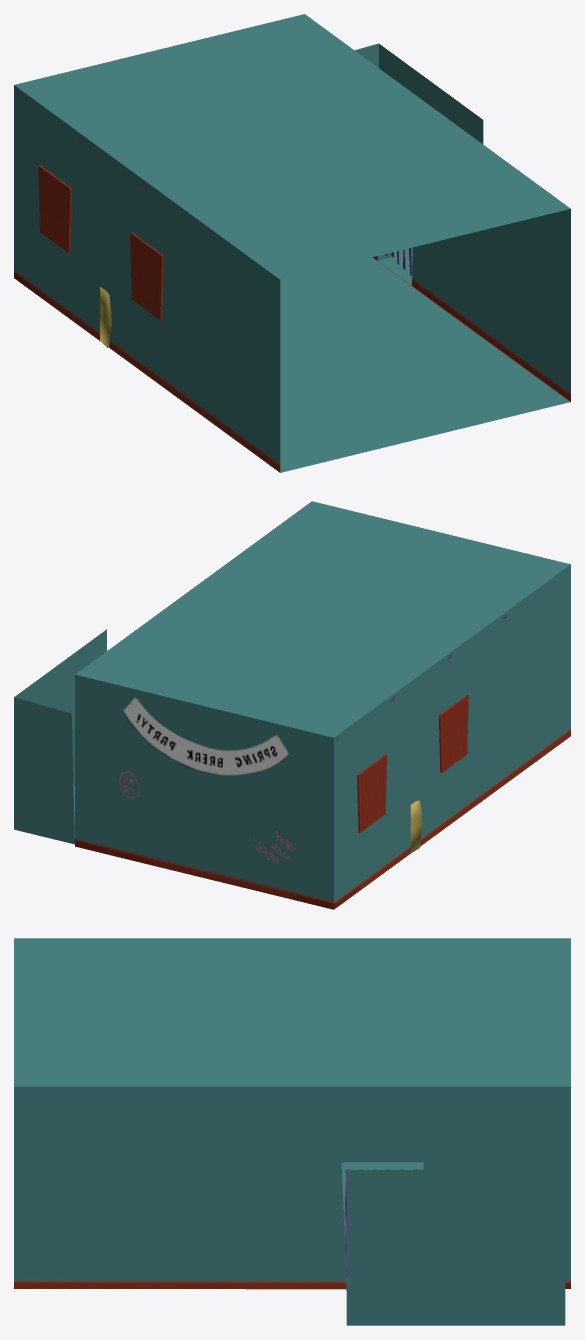
The model's file is frathousecolor.FBX.
3 renders of one model, top to bottom at view 1: azimuth 30°, elevation 25°; view 2: azimuth 150°, elevation 25°; view 3: azimuth 270°, elevation 25°, orthographic. The views are drawn at different scales.
Parts seen in each view (by area): view 1: Box007, Box008, Box010, Box004; view 2: Box007, Box008, Box010, Box004; view 3: Box007.
Part boxes in pixels (x1,y1,x2,y2): Box007: (14,14,570,472); Box008: (130,232,163,320); Box010: (38,165,71,252); Box004: (100,286,111,347); Box007: (14,501,570,909); Box008: (438,694,468,772); Box010: (357,754,386,832); Box004: (410,800,422,853); Box007: (14,938,570,1325).
Bounding box in the file's own units: 77.38 × 39.46 × 98.02.
